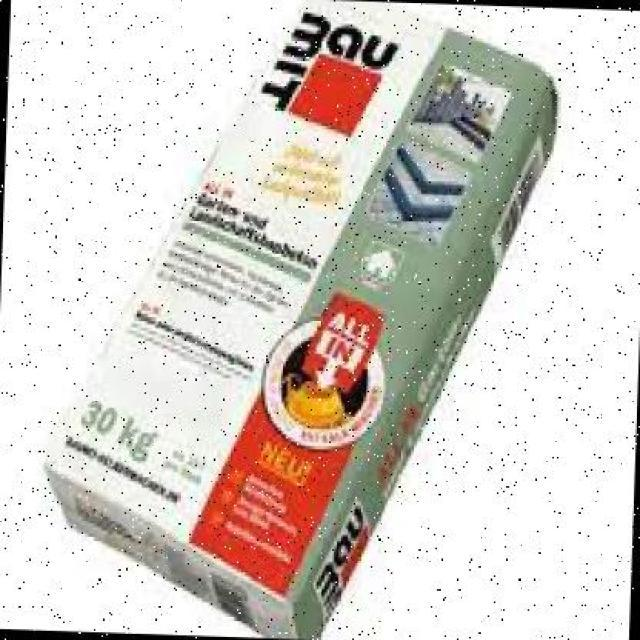gunny_bag: (44, 0, 564, 640)
